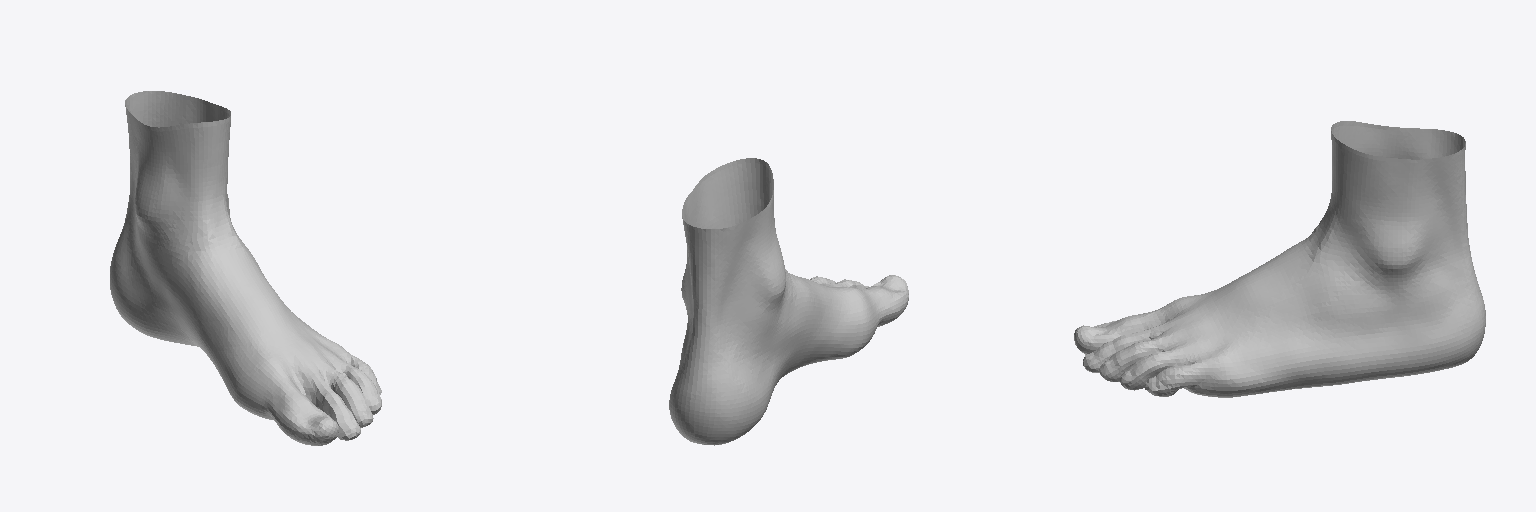
3 renders of one model, left to right at view 1: azimuth 30°, elevation 25°; view 2: azimuth 150°, elevation 25°; view 3: azimuth 270°, elevation 25°, orthographic.
Visible parts, largest first — view 1: feet; view 2: feet; view 3: feet.
Boxes of the visible parts, <box> form: feet: <box>110,91,381,445</box>; feet: <box>669,158,908,445</box>; feet: <box>1074,121,1485,397</box>.
Bounding box in the file's own units: 9.91 × 17.43 × 27.1.